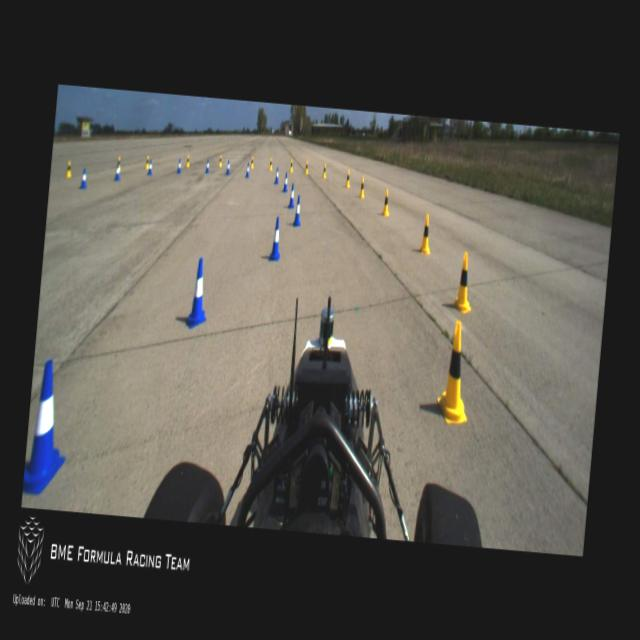blue_cone: (22, 356, 74, 494), (184, 256, 211, 328), (268, 217, 282, 261), (293, 194, 302, 226), (287, 183, 295, 208), (80, 168, 87, 187), (282, 172, 288, 192), (274, 166, 280, 185), (114, 164, 120, 182), (204, 157, 210, 173), (176, 159, 182, 173), (245, 162, 250, 178), (225, 159, 230, 175), (147, 160, 152, 176)
yellow_cone: (436, 320, 474, 424), (452, 251, 476, 314), (418, 213, 432, 254), (381, 188, 390, 216), (358, 176, 365, 198), (64, 160, 72, 178), (345, 168, 351, 188), (116, 156, 122, 172), (322, 163, 327, 179), (144, 155, 150, 168), (288, 160, 294, 172), (218, 152, 223, 166), (304, 160, 309, 174), (186, 154, 190, 168), (268, 157, 272, 170), (250, 156, 253, 168)
